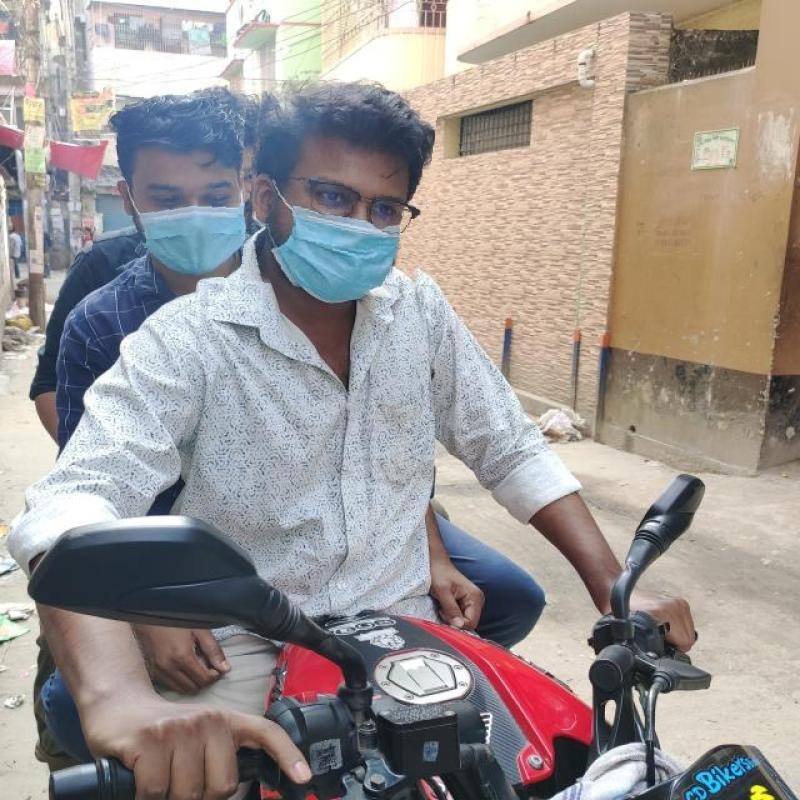nohelmet: (246, 96, 432, 296), (94, 90, 244, 276)
